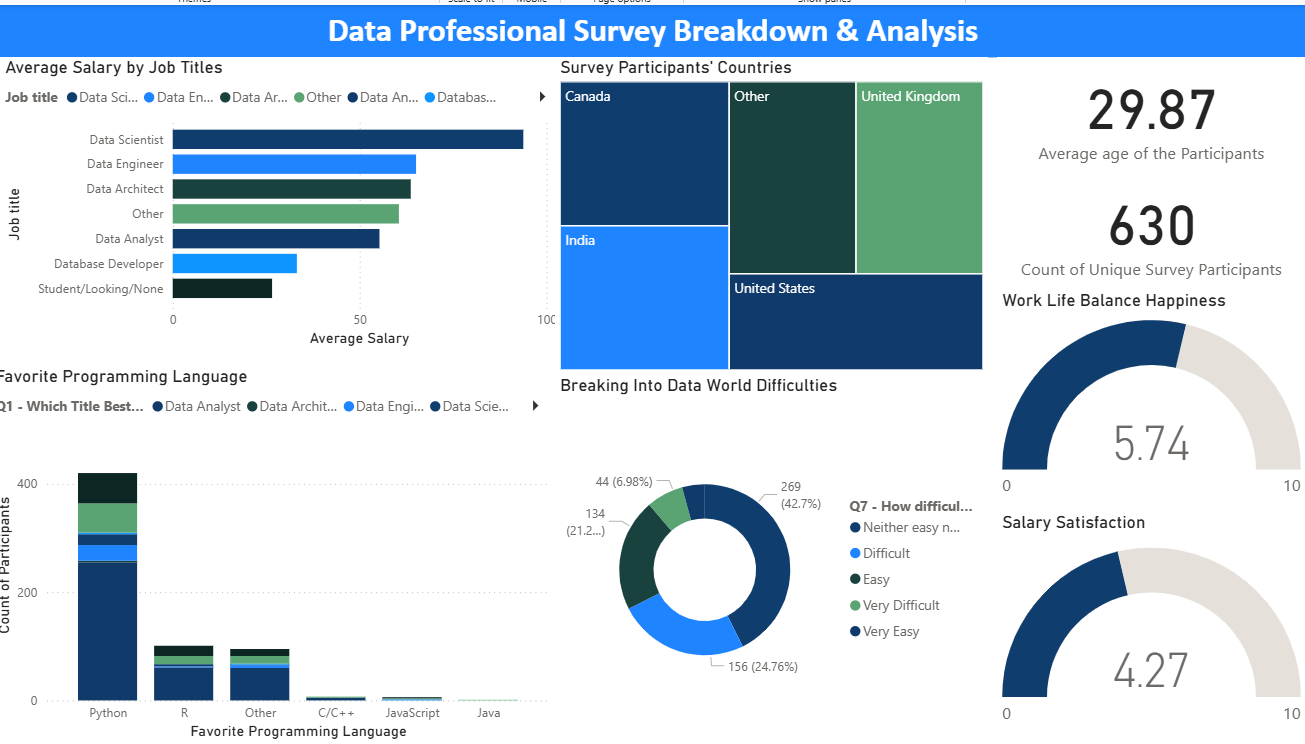

What the dashboard file says about the page in this screenshot:
{"tool":"powerbi","page":{"name":"Page 1","canvas":[1280,720],"ordinal":0},"visuals":[{"type":"textbox","box":[9.7,0,1270.3,50.6],"z":0},{"type":"card","fields":{"Values":["Count(Data Professional Survey (2).Unique ID)"]},"box":[979.5,159.5,300.5,117.7],"z":1000},{"type":"card","fields":{"Values":["Avg(Data Professional Survey (2).Q10 - Current Age)"]},"box":[979.5,50.6,300.5,108.9],"z":2000},{"type":"barChart","title":"Average Salary by Job Titles","fields":{"Category":["Data Professional Survey (2).Q1 - Which Title Best Fits your Current Role?.1"],"Y":["Avg(Data Professional Survey (2).Average Salary)"],"Series":["Data Professional Survey (2).Q1 - Which Title Best Fits your Current Role?.1"]},"box":[9.7,50.6,546.6,286.9],"z":3000},{"type":"columnChart","title":"Favorite Programming Language","fields":{"Category":["Data Professional Survey (2).Q5 - Favorite Programming Language.1"],"Y":["CountNonNull(Data Professional Survey (2).Unique ID)"],"Series":["Data Professional Survey (2).Q1 - Which Title Best Fits your Current Role?.1"]},"box":[0,351.1,549.5,368.6],"z":4000},{"type":"treemap","title":"Survey Participants'' Countries","fields":{"Group":["Data Professional Survey (2).Q11 - Which Country do you live in?.1"],"Values":["Count(Data Professional Survey (2).Q11 - Which Country do you live in?.1)"]},"box":[549.5,50.6,421.2,309.3],"z":5000},{"type":"gauge","title":"Work Life Balance Happiness","fields":{"Y":["Avg(Data Professional Survey (2).Q6 - How Happy are you in your Current Position with the following? (Work/Life Balance)"],"MinValue":["Min(Data Professional Survey (2).Q6 - How Happy are you in your Current Position with the following? (Work/Life Balance)"],"MaxValue":["Max(Data Professional Survey (2).Q6 - How Happy are you in your Current Position with the following? (Work/Life Balance)"]},"box":[979.5,277.2,300.5,215.9],"z":6000},{"type":"gauge","title":"Salary Satisfaction","fields":{"Y":["Avg(Data Professional Survey (2).Q6 - How Happy are you in your Current Position with the following? (Salary))"],"MinValue":["Min(Data Professional Survey (2).Q6 - How Happy are you in your Current Position with the following? (Salary))"],"MaxValue":["Max(Data Professional Survey (2).Q6 - How Happy are you in your Current Position with the following? (Salary))"]},"box":[979.5,493.1,300.5,226.6],"z":7000},{"type":"donutChart","title":"Breaking Into Data World Difficulties","fields":{"Category":["Data Professional Survey (2).Q7 - How difficult was it for you to break into Data?"],"Y":["CountNonNull(Data Professional Survey (2).Q7 - How difficult was it for you to break into Data?)"]},"box":[549.5,359.9,413.4,359.9],"z":8000}]}

Visuals, with their boxes on the page's 1280x720 design canvas (x1, y1, x2, y2). These are canvas units, not pixel positions in the 1305x744 screenshot, which may show the page scaled, cropped or inside an application window:
textbox: <box>10,0,1280,51</box>
card - Count(Data Professional Survey (2).Unique ID): <box>980,160,1280,277</box>
card - Avg(Data Professional Survey (2).Q10 - Current Age): <box>980,51,1280,160</box>
"Average Salary by Job Titles" barChart: <box>10,51,556,338</box>
"Favorite Programming Language" columnChart: <box>0,351,550,720</box>
"Survey Participants'' Countries" treemap: <box>550,51,971,360</box>
"Work Life Balance Happiness" gauge: <box>980,277,1280,493</box>
"Salary Satisfaction" gauge: <box>980,493,1280,720</box>
"Breaking Into Data World Difficulties" donutChart: <box>550,360,963,720</box>
